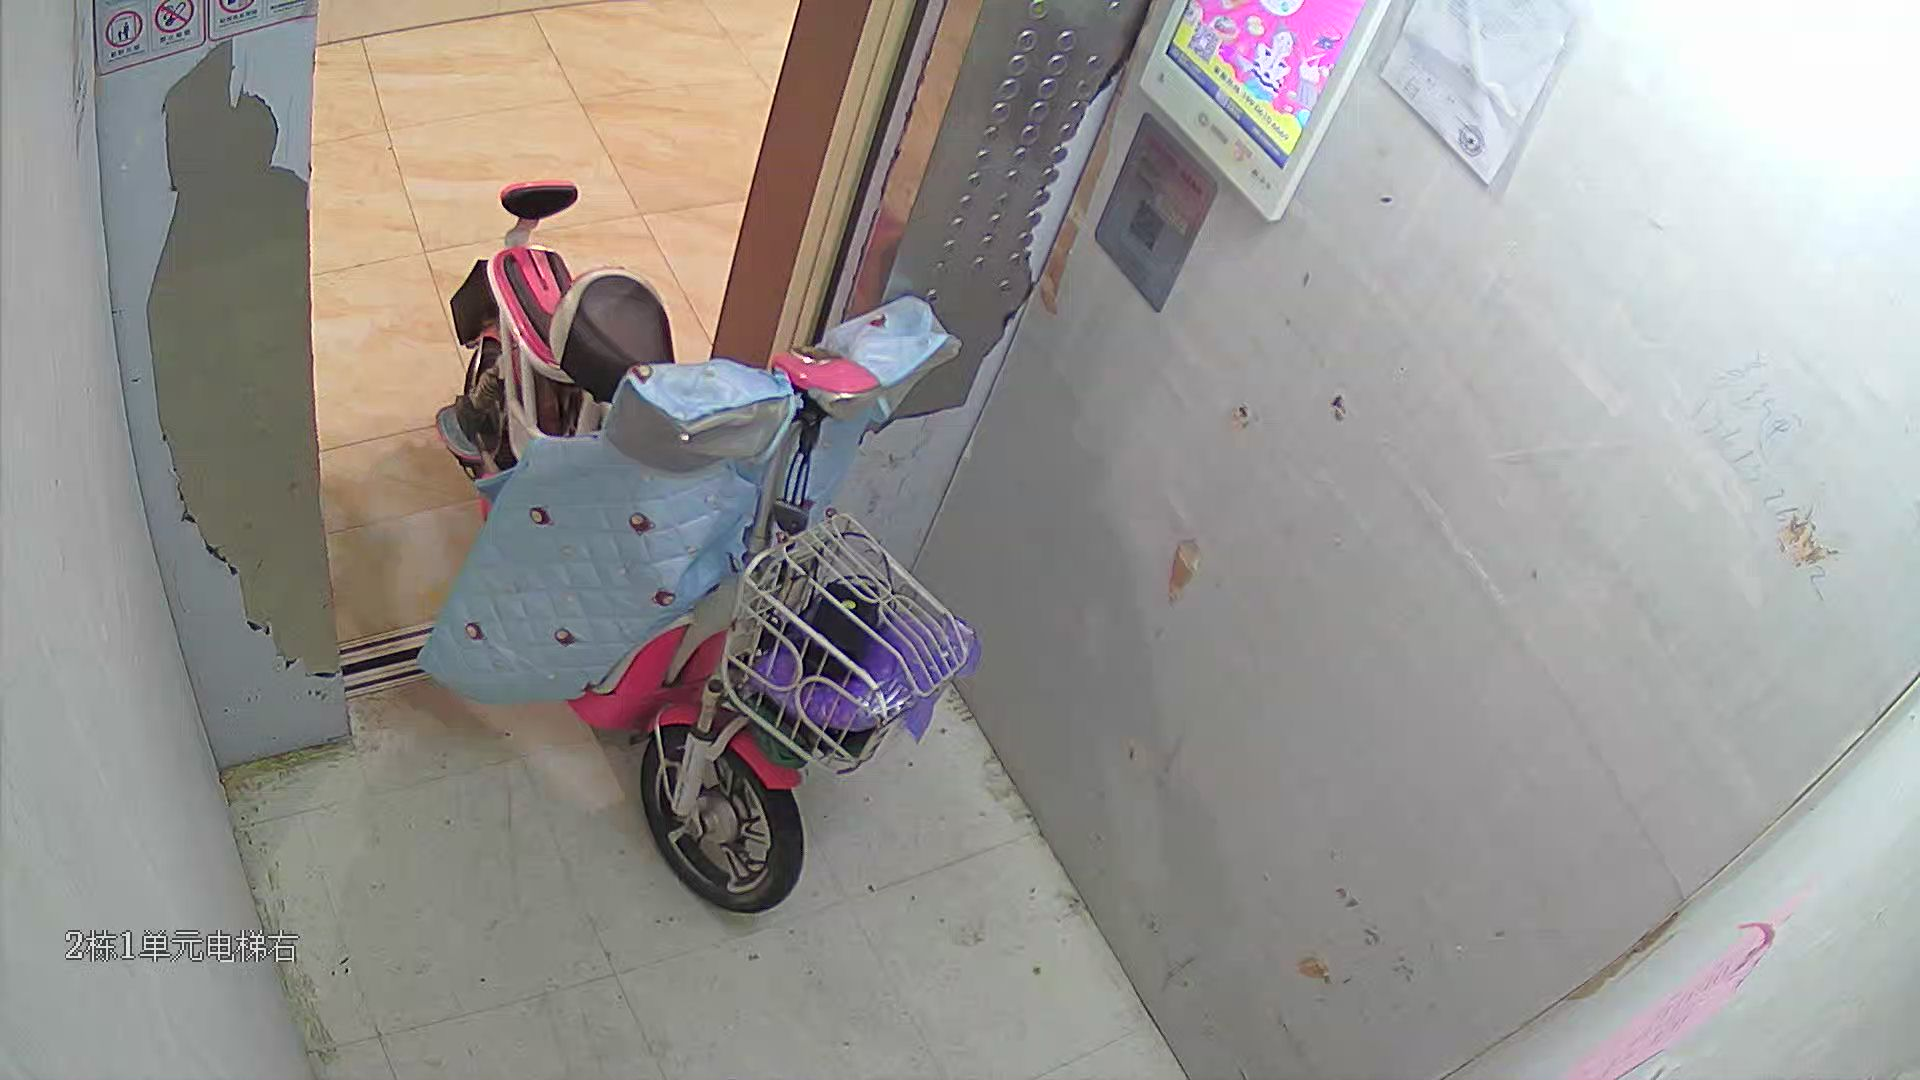Electric-bicycle: (450, 175, 967, 905)
